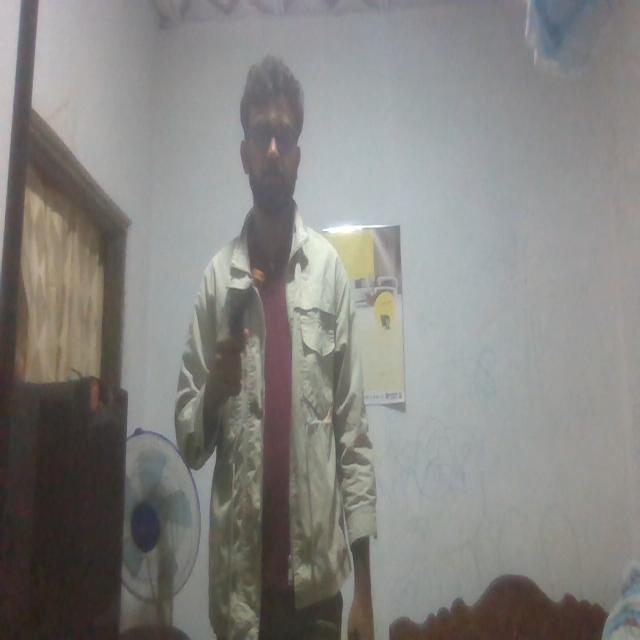Gun_Holder: (217, 268, 265, 388)
Jacket_Wearer: (176, 207, 379, 600)
Person: (177, 59, 382, 640)
